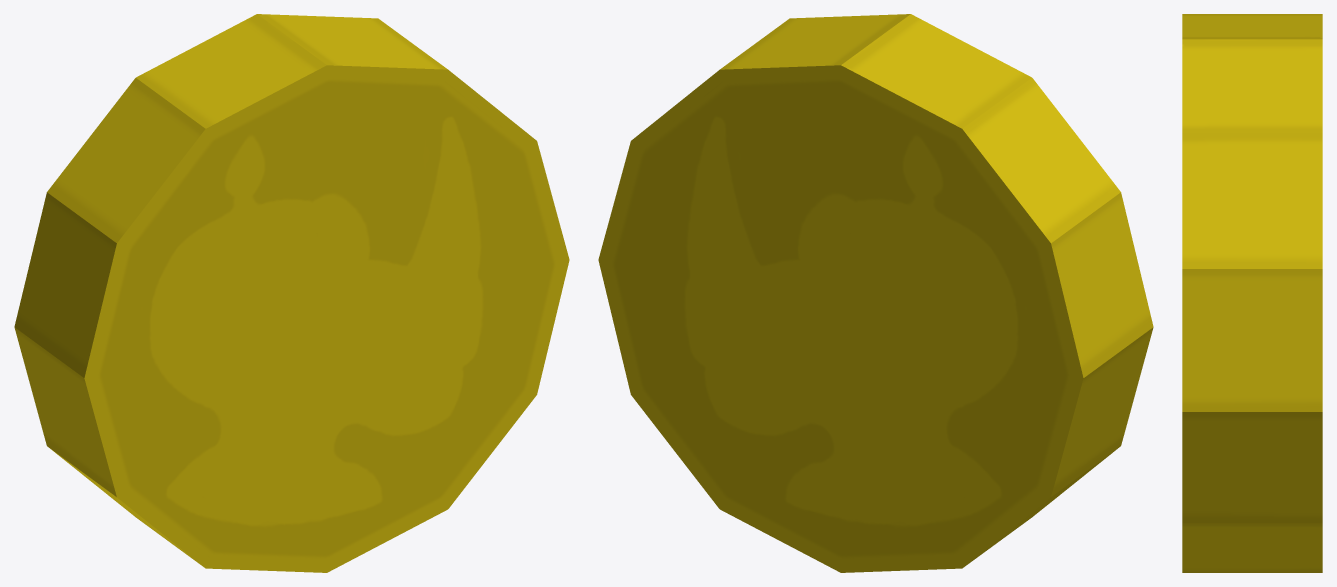
Rendered from RhinoCoin.fbx.
3 views of the same model, side by side, from view 1: azimuth 30°, elevation 25°; view 2: azimuth 150°, elevation 25°; view 3: azimuth 270°, elevation 25° (orthographic).
Parts seen in each view (by area): view 1: Rhino_Coin; view 2: Rhino_Coin; view 3: Rhino_Coin.
Part boxes in pixels (x1,y1,x2,y2): Rhino_Coin: (14,14,569,572); Rhino_Coin: (598,14,1153,572); Rhino_Coin: (1182,14,1322,572).
Size of the model in its own units: 100 by 100 by 25.
1 material, 1 textured.
